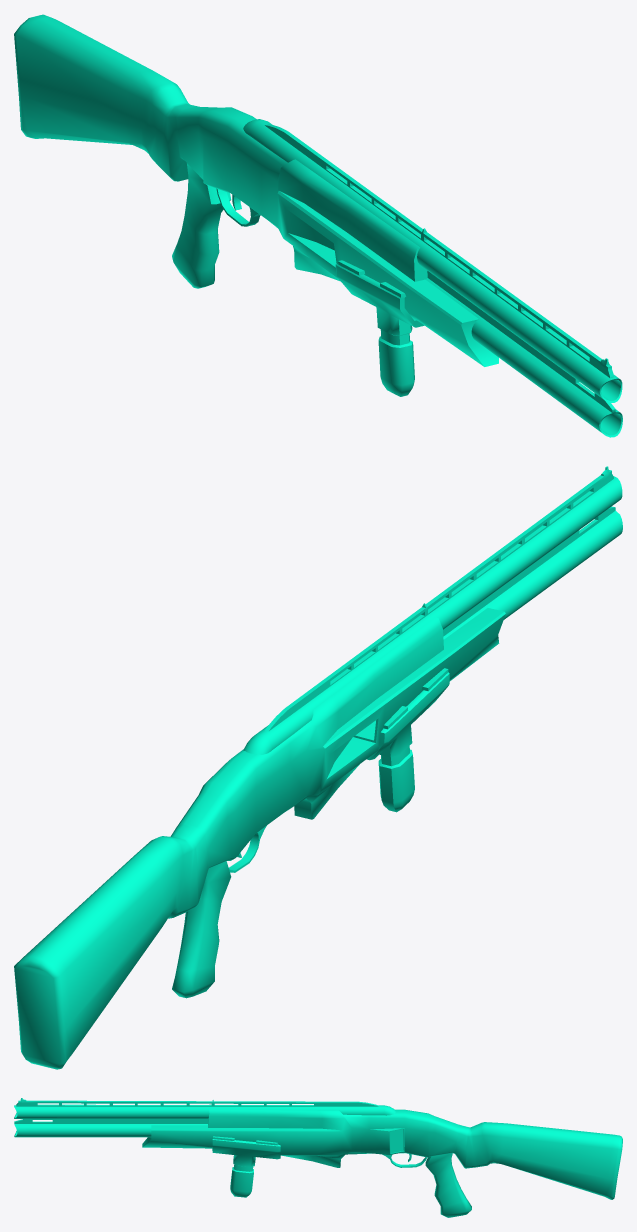
The model's file is prop_wep_shotgun.FBX.
3 views of the same model, one above another, from view 1: azimuth 30°, elevation 25°; view 2: azimuth 150°, elevation 25°; view 3: azimuth 270°, elevation 25° (orthographic). The views are drawn at different scales.
Parts seen in each view (by area): view 1: prop_wep_shotgun; view 2: prop_wep_shotgun; view 3: prop_wep_shotgun.
Boxes of the visible parts, bbox=[...] form: prop_wep_shotgun: bbox=[14, 14, 622, 437]; prop_wep_shotgun: bbox=[14, 466, 622, 1069]; prop_wep_shotgun: bbox=[14, 1098, 622, 1217].
Bounding box in the file's own units: 0.0579 × 0.2353 × 1.1.
